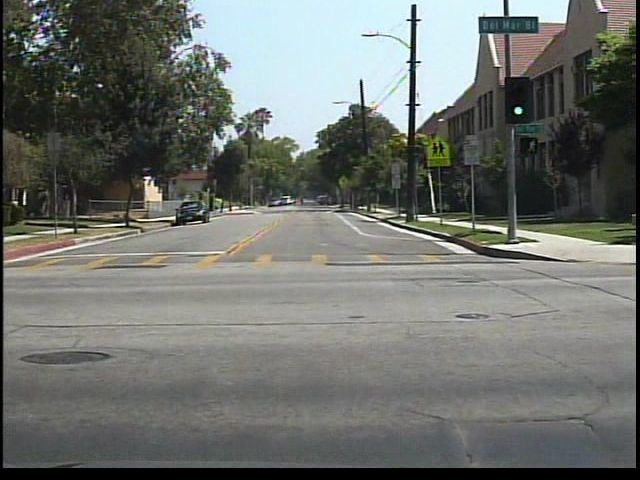person: (294, 192, 309, 209)
